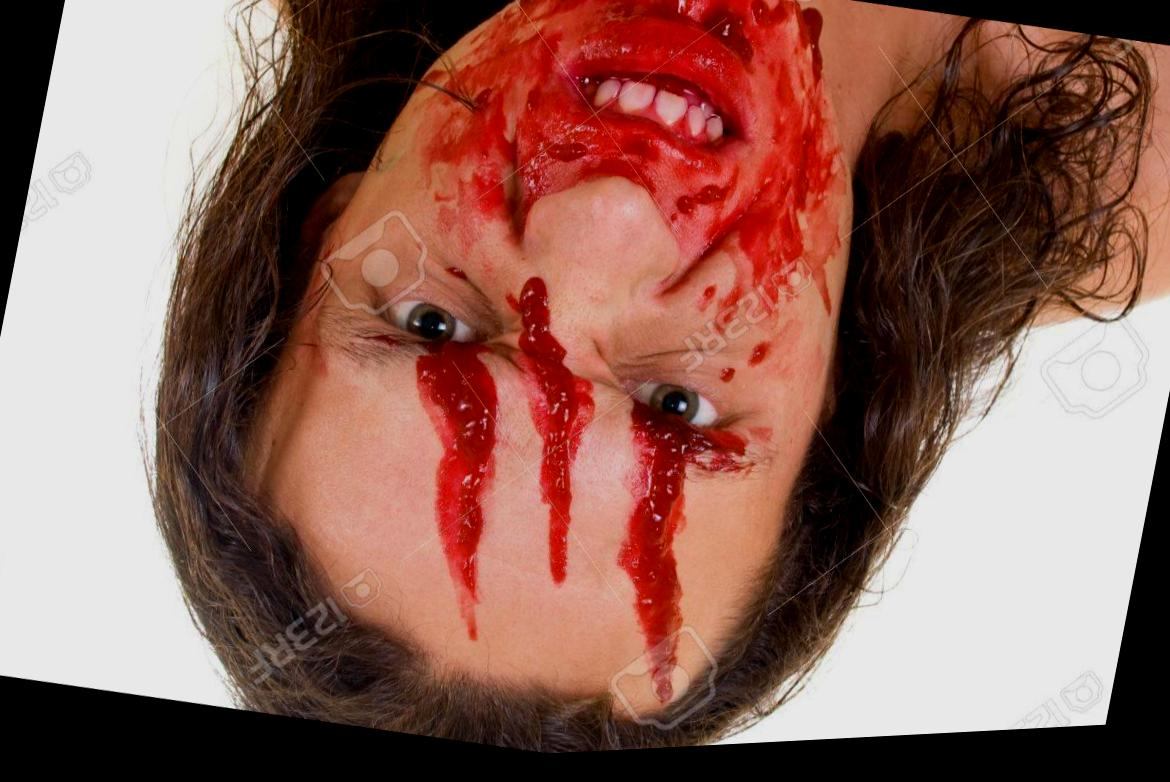Fire: (415, 0, 841, 381), (617, 392, 745, 712), (414, 348, 497, 645), (516, 285, 592, 592), (692, 325, 783, 436)
